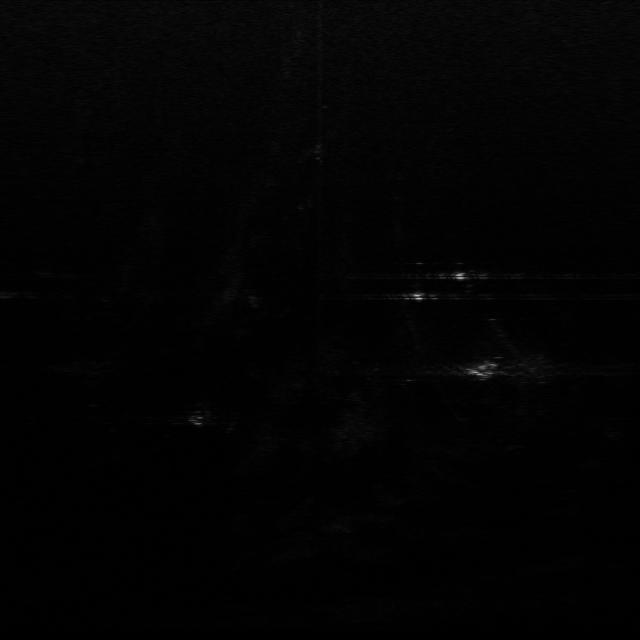rov: (466, 358, 510, 384)
